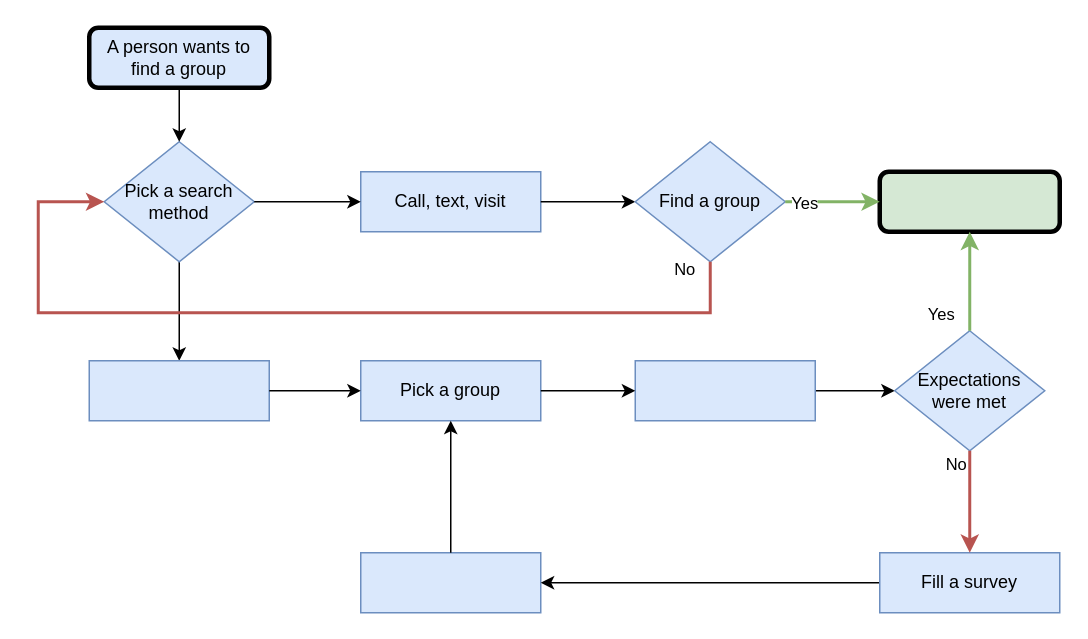
Some shapes in this 1088 by 639 pixel diagram are drawn without their labels. The centre of each missing label's shape, as x and y in pixels:
App suggest new groups: pixel 450 582
Go to Community Curator: pixel 178 390
Meet the group / go to event: pixel 724 390
Success: pixel 969 201
